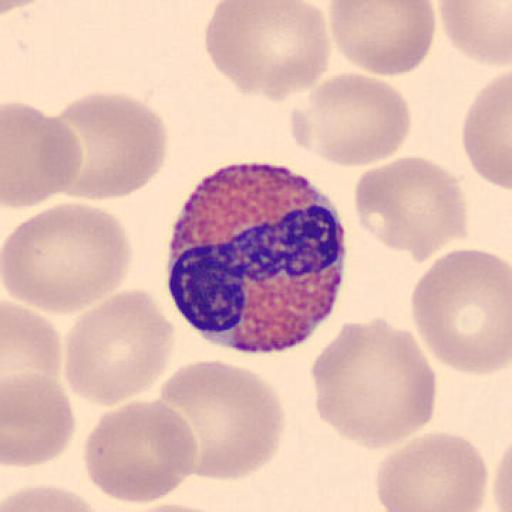RBC: (312, 315, 438, 452), (157, 358, 287, 483), (2, 201, 133, 315), (63, 287, 175, 407), (409, 246, 512, 376), (352, 154, 469, 263), (205, 1, 331, 102), (54, 90, 168, 201), (82, 398, 198, 504), (291, 70, 413, 168), (374, 431, 489, 511), (1, 102, 84, 208), (328, 1, 437, 77), (2, 372, 76, 469), (2, 300, 62, 405), (461, 70, 512, 191), (438, 0, 512, 68), (0, 482, 102, 512), (490, 443, 512, 512), (126, 503, 231, 512), (1, 0, 44, 18), (2, 0, 48, 13)
WBC: (164, 159, 348, 357)
